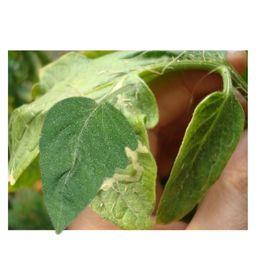liriomyza: (99, 142, 149, 191)
